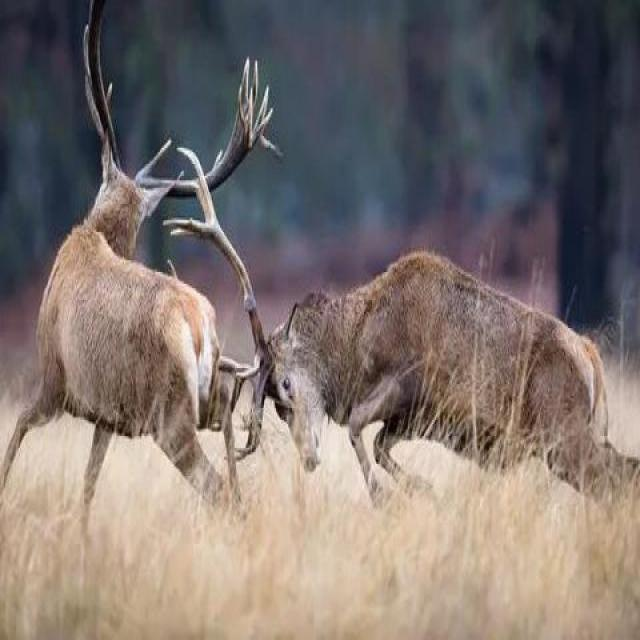deer: (238, 221, 640, 639), (18, 72, 246, 551)
